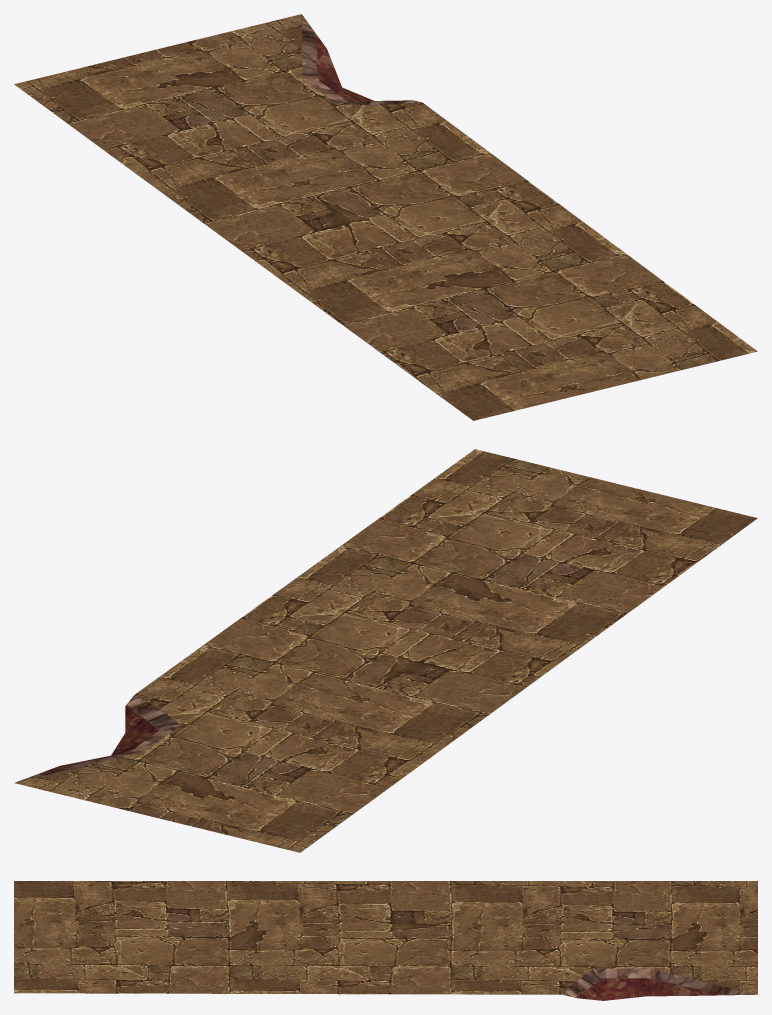
File: Scene_dimian_001_p1.FBX
3 views of the same model, one above another, from view 1: azimuth 30°, elevation 25°; view 2: azimuth 150°, elevation 25°; view 3: azimuth 270°, elevation 25° (orthographic). The views are drawn at different scales.
Visible parts, largest first — view 1: Scene_dimian_001_p1; view 2: Scene_dimian_001_p1; view 3: Scene_dimian_001_p1.
Part boxes in pixels (bbox=[...]): Scene_dimian_001_p1: bbox=[14, 14, 757, 420]; Scene_dimian_001_p1: bbox=[14, 449, 757, 852]; Scene_dimian_001_p1: bbox=[14, 881, 757, 1000].
Size of the model in its own units: 9.61 by 0.5083 by 26.56.
